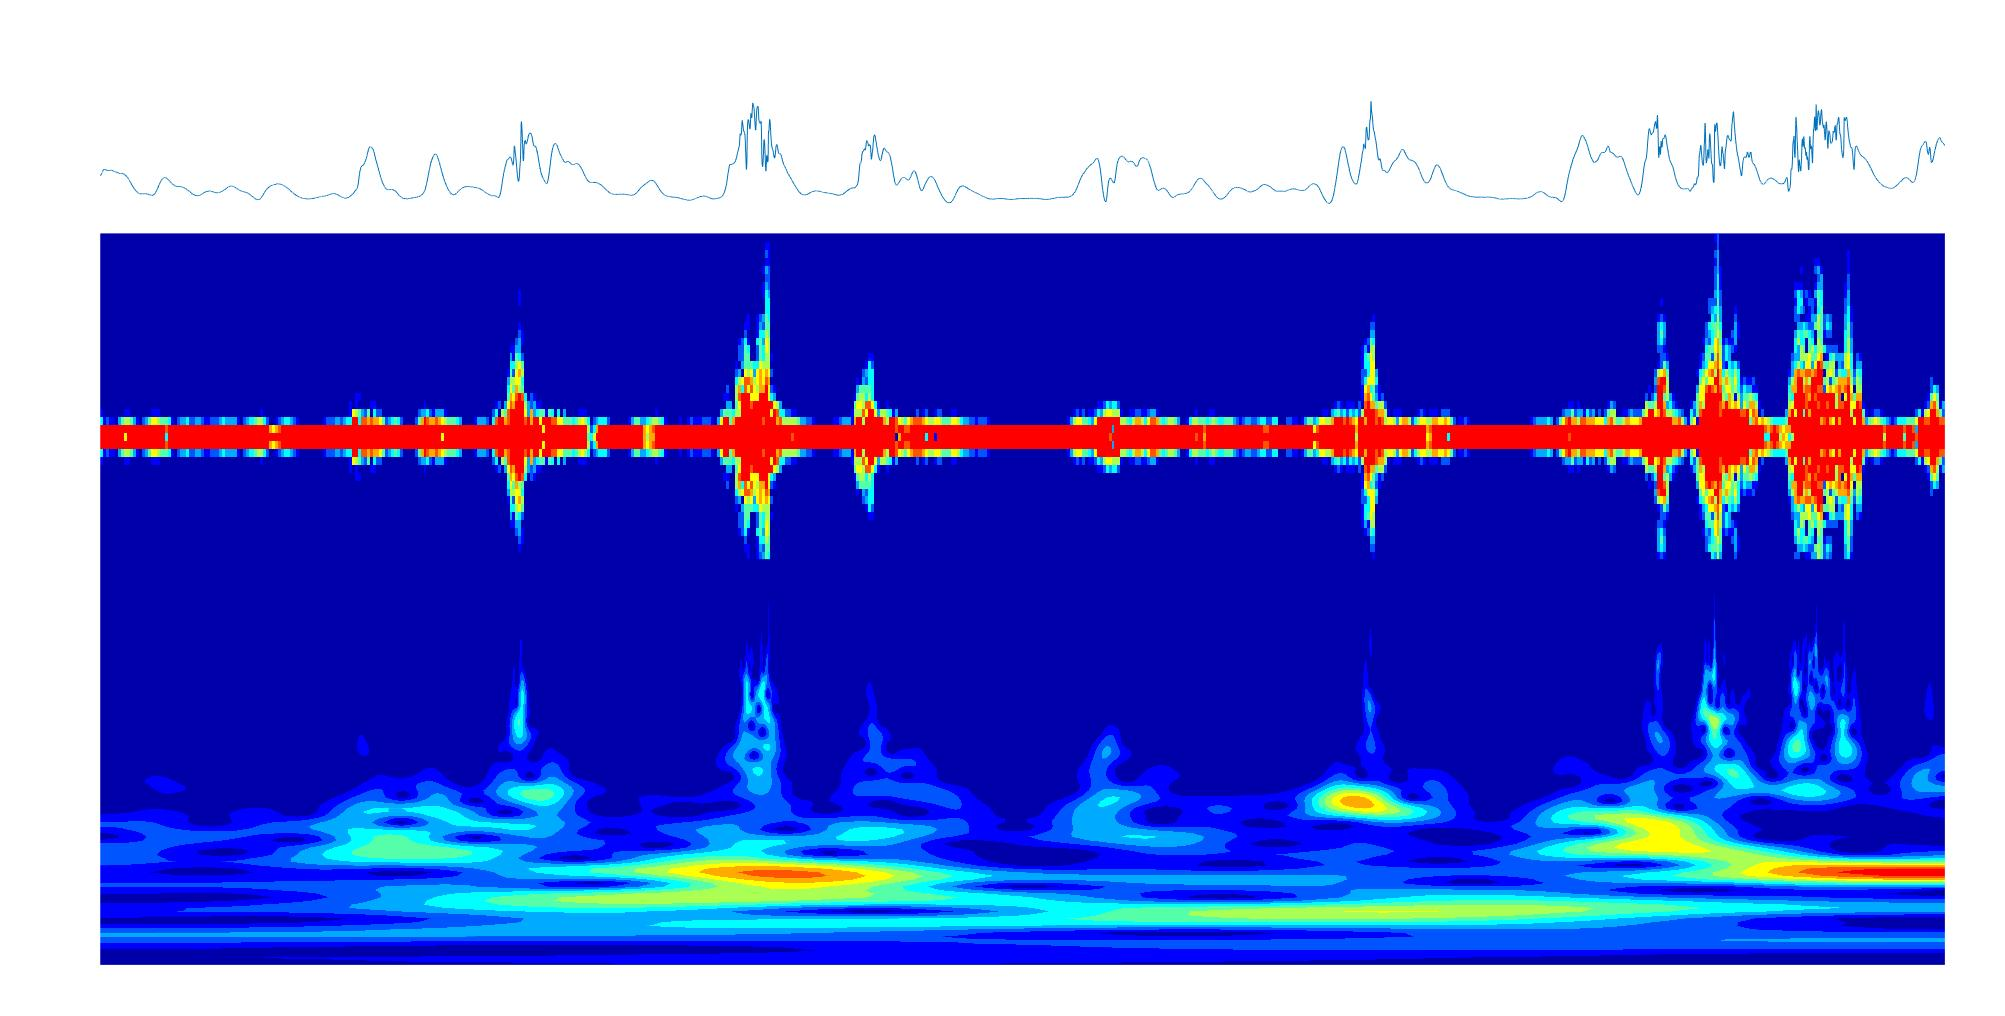TURBULENT: (1786, 233, 1861, 965), (1694, 233, 1742, 965), (732, 232, 778, 965), (497, 235, 540, 964), (1645, 233, 1677, 964)
